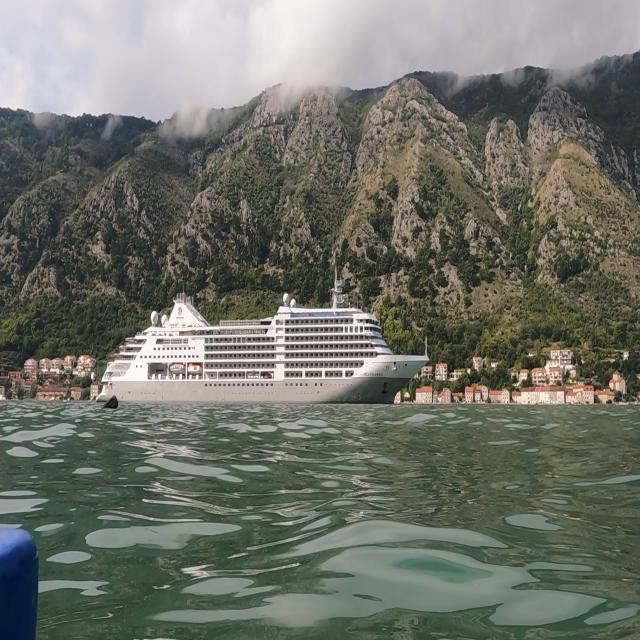boat: (93, 265, 431, 409)
buoy: (98, 394, 123, 422)
